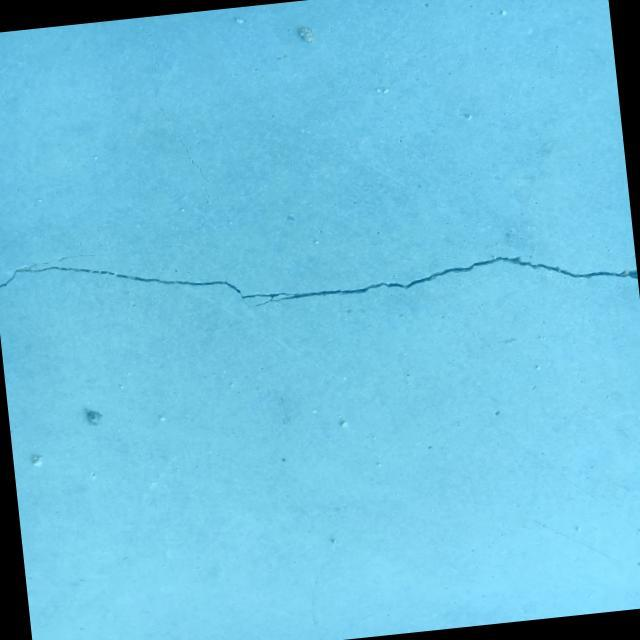crack: (0, 195, 637, 346)
